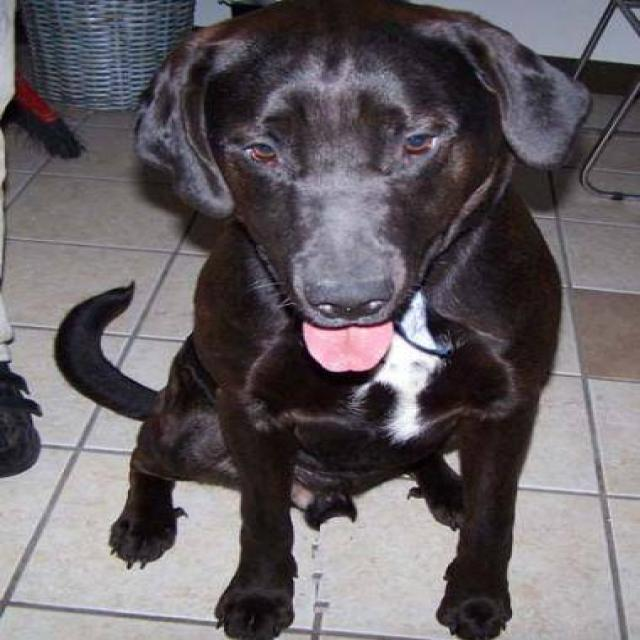dog: (52, 0, 593, 639)
